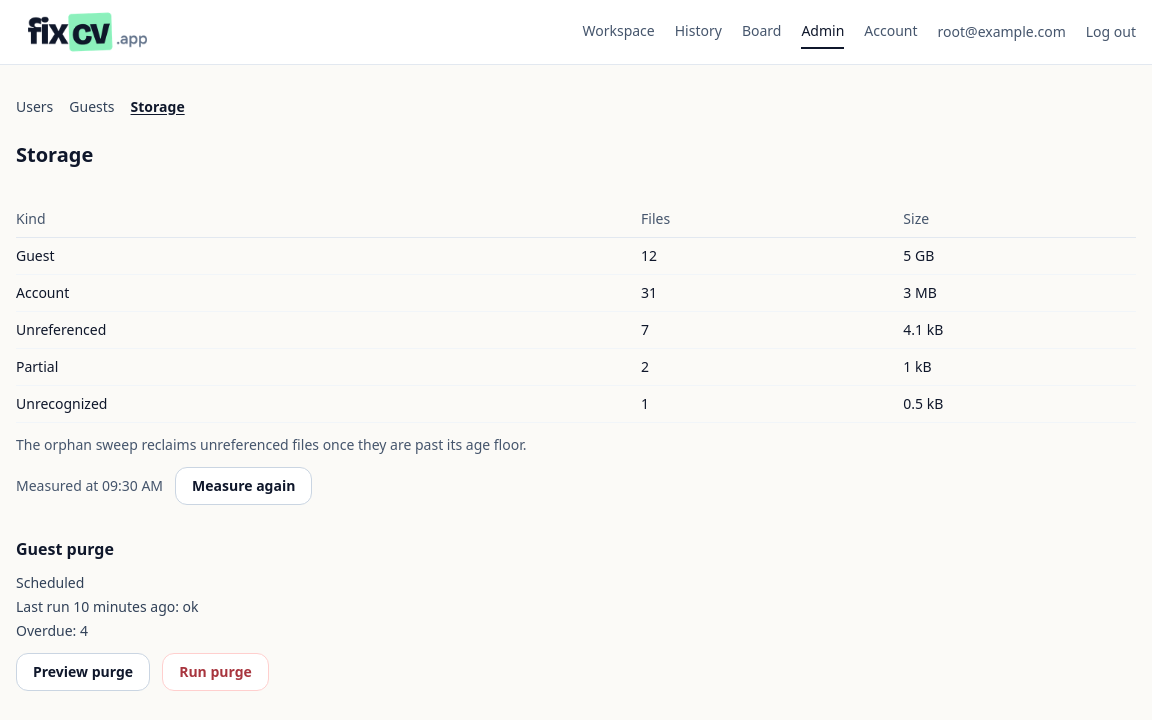
Test: storage — AC-36 › Measure again measures again, and is disabled while fetching
The width and height of the screenshot is (1152, 720).
Expected: the table is shown, [16, 201, 1136, 423]
Click the button "Measure again" at (244, 486), box [175, 467, 312, 505]
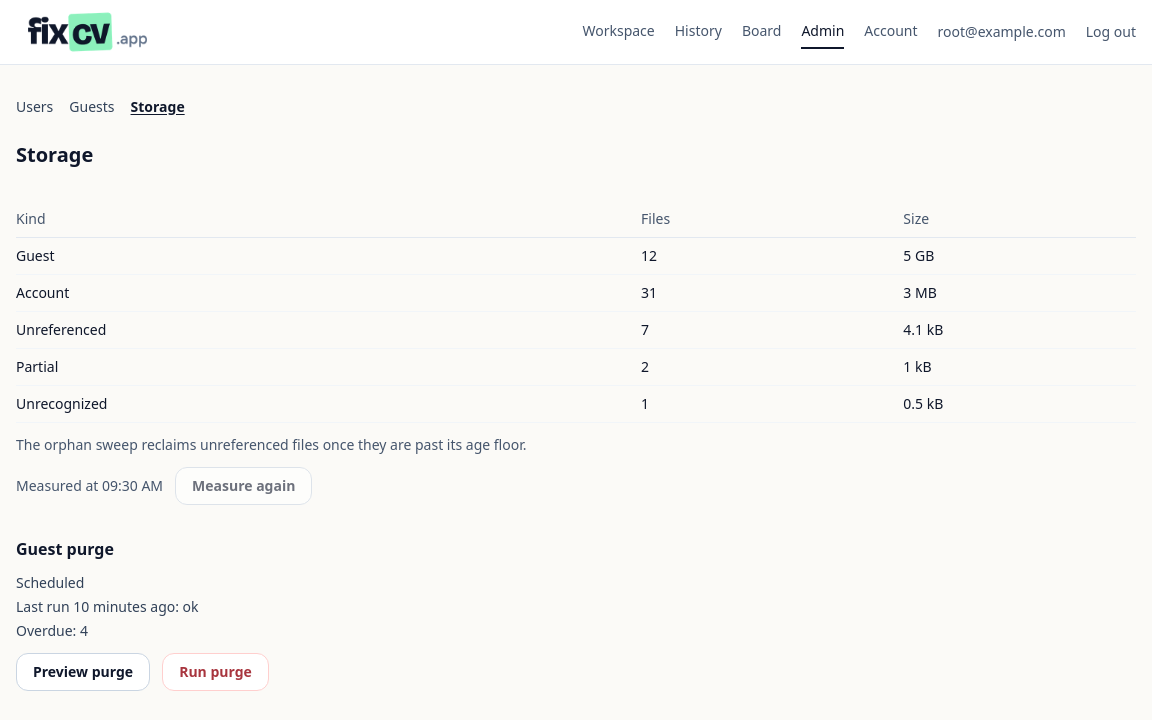
Expected: the button "Measure again" is disabled, [175, 467, 312, 505]
